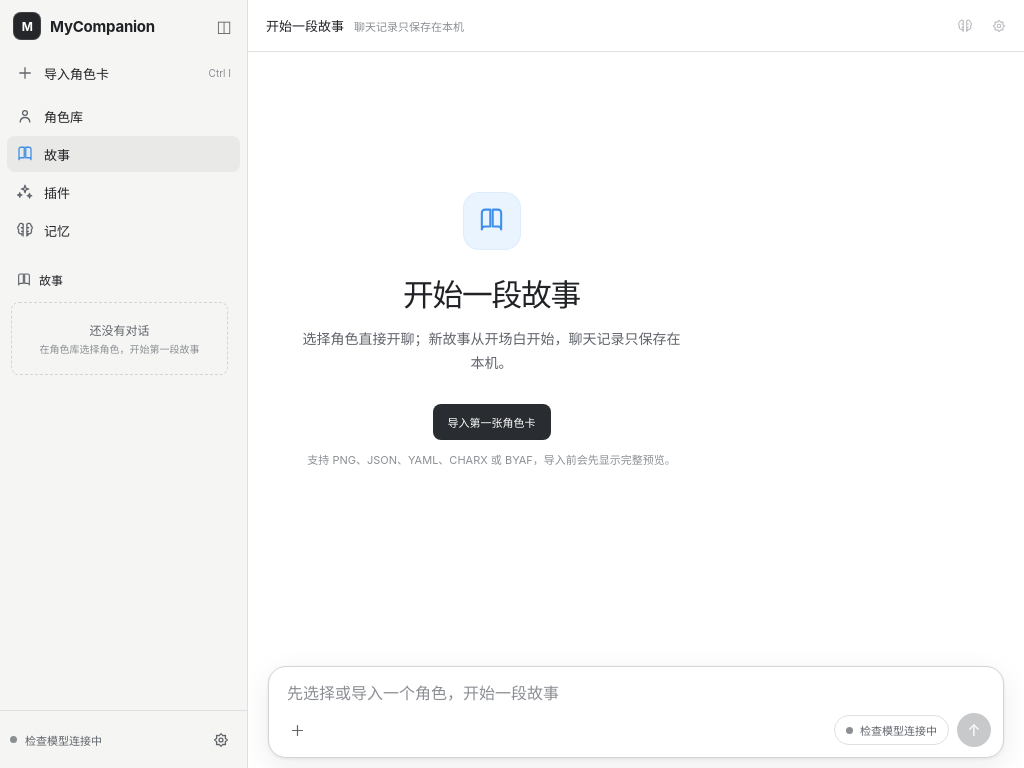
Test: App › reports an unavailable API without hiding the onboarding content
This screenshot has width=1024, height=768.
Click the button "角色库" at (124, 116), box [7, 98, 240, 134]
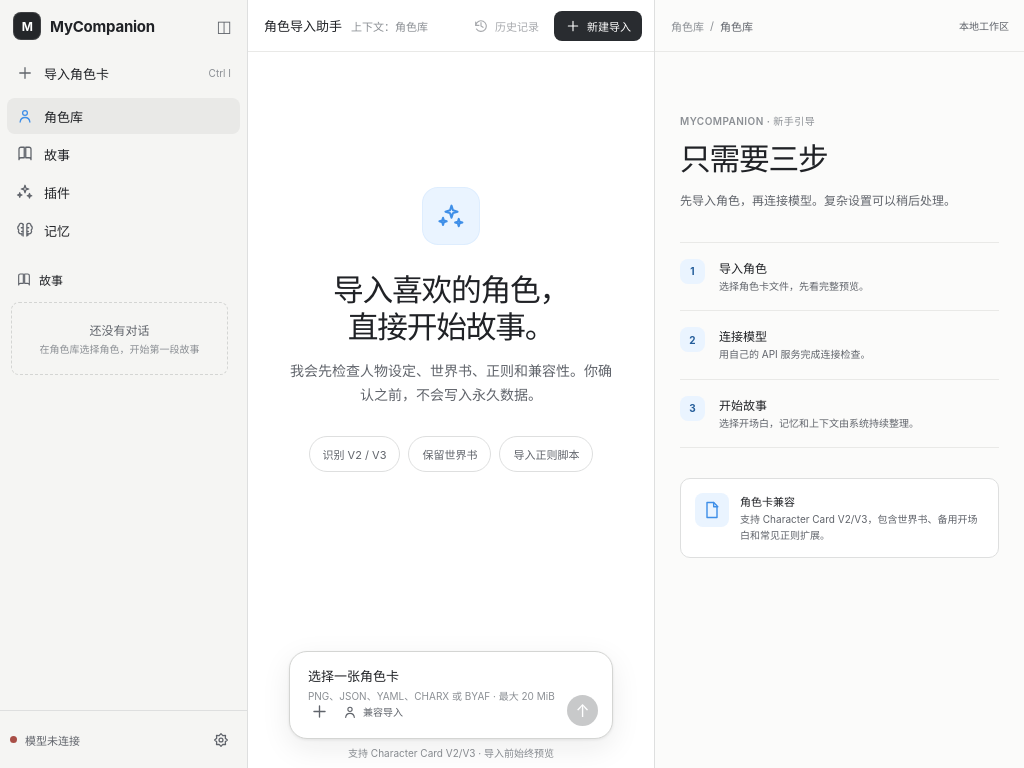
Expected: the text "模型未连接" is shown, [25, 732, 80, 748]
Expected: the heading "只需要三步" is shown, [680, 140, 828, 177]
